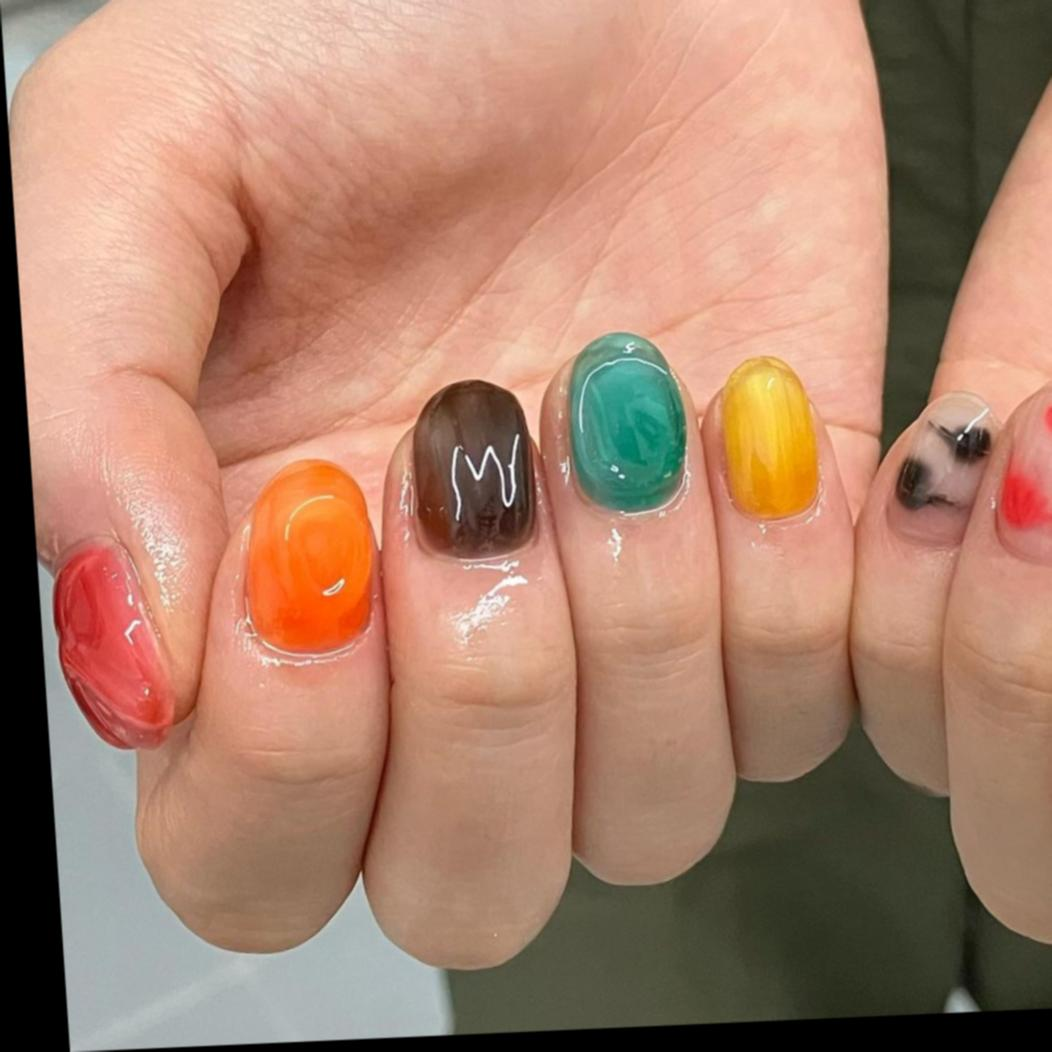nail: (234, 454, 386, 661), (48, 534, 182, 753), (403, 375, 544, 562), (562, 327, 696, 518), (717, 352, 827, 525), (889, 393, 998, 545), (985, 373, 1052, 568)
